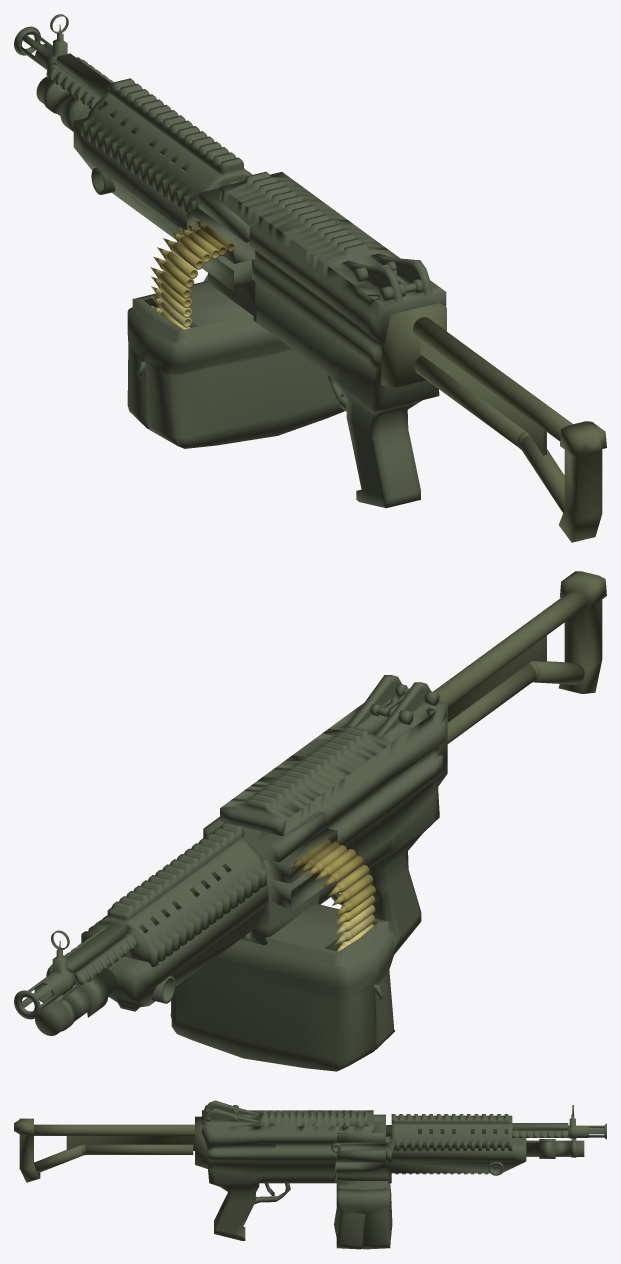
3 renders of one model, top to bottom at view 1: azimuth 30°, elevation 25°; view 2: azimuth 150°, elevation 25°; view 3: azimuth 270°, elevation 25°, orthographic. The views are drawn at different scales.
Parts seen in each view (by area): view 1: Body_g; view 2: Body_g; view 3: Body_g.
Part boxes in pixels (x1=…): Body_g: x1=14, y1=14, x2=606, y2=542; Body_g: x1=14, y1=571, x2=606, y2=1071; Body_g: x1=14, y1=1100, x2=606, y2=1249.
Size of the model in its own units: 0.2071 by 0.2566 by 1.04.
